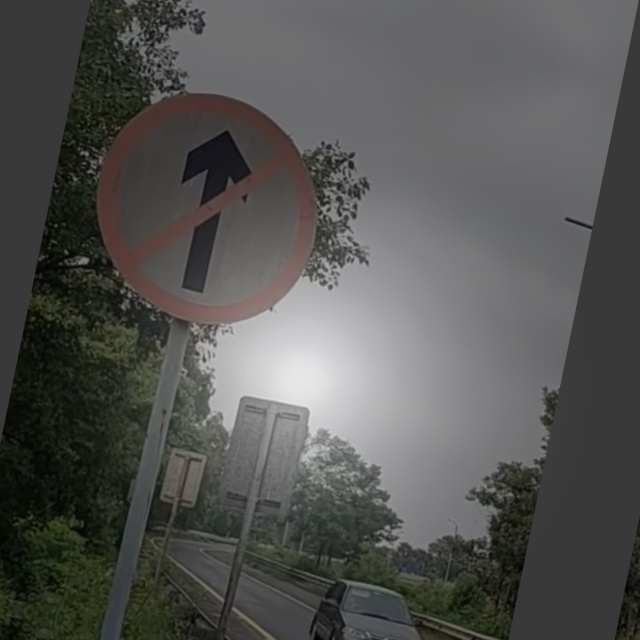No_Entry: (79, 78, 340, 343)
